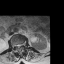CCS_normal: (17, 42, 19, 50)
LFS_stenosis: (21, 42, 23, 47)
LLS_normal: (19, 42, 21, 48)
RFS_normal: (14, 42, 16, 47)
RLS_normal: (16, 43, 17, 48)
